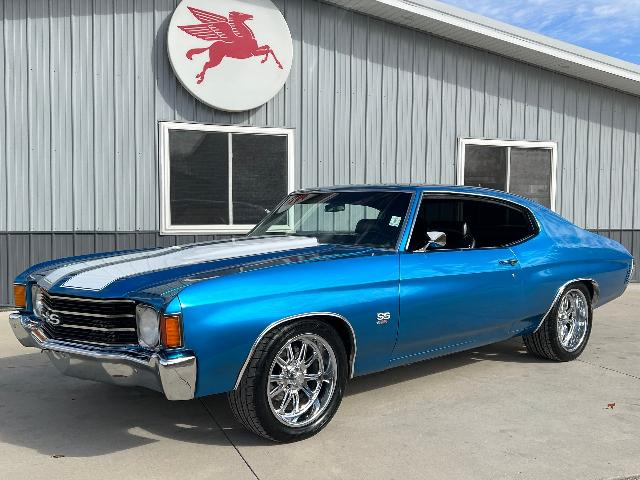chevelle-1972: (10, 184, 633, 442)
